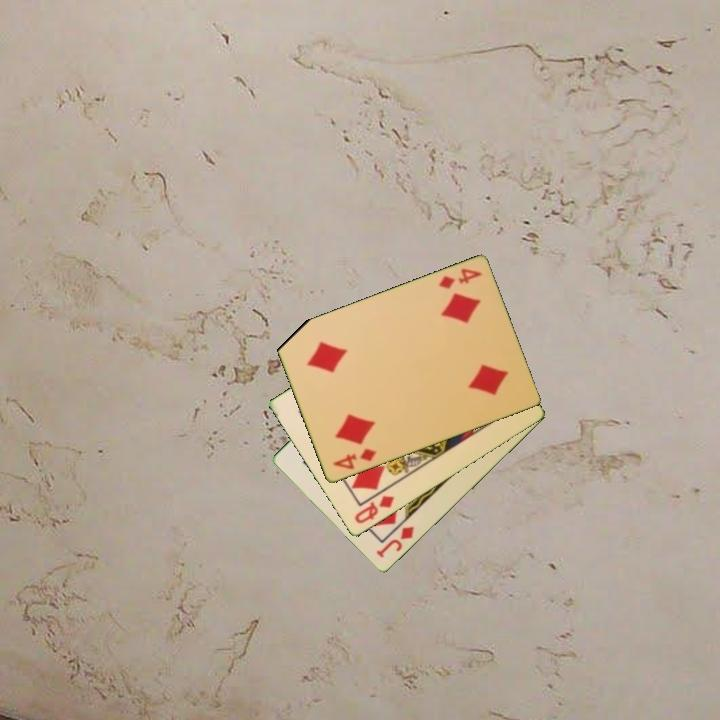4d: (330, 445, 379, 473), (435, 265, 485, 292)
Jd: (373, 523, 417, 561)
Qd: (351, 492, 397, 527)
